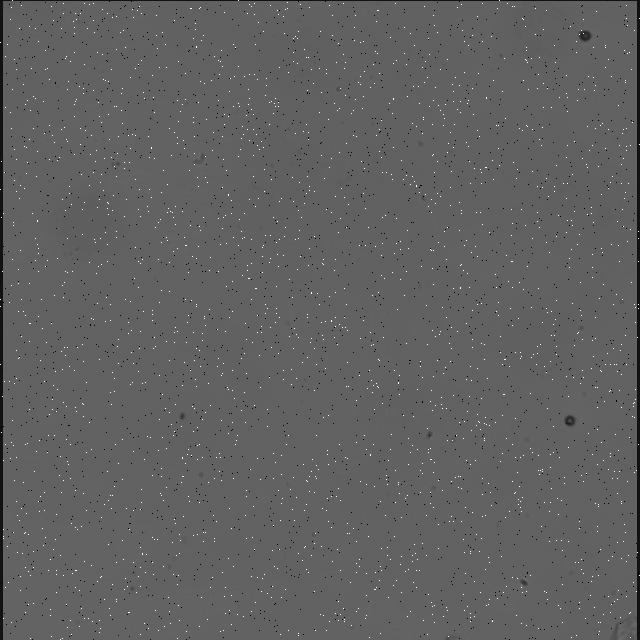microbeads: (562, 412, 578, 426), (578, 26, 590, 40)
